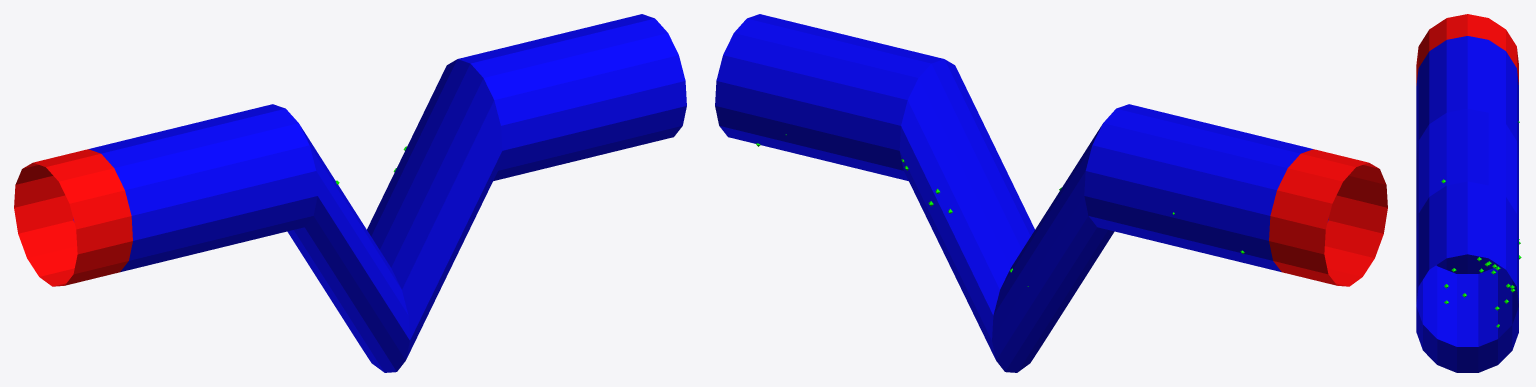
Rendered from try_0.obj.
3 renders of one model, left to right at view 1: azimuth 30°, elevation 25°; view 2: azimuth 150°, elevation 25°; view 3: azimuth 270°, elevation 25°, orthographic. The views are drawn at different scales.
Visible parts, largest first — view 1: material_b, material_r; view 2: material_b, material_r; view 3: material_b, material_r, material_g.
Part boxes in pixels (<box>): material_b: <box>73,14,686,372</box>; material_r: <box>14,149,132,286</box>; material_b: <box>715,14,1328,372</box>; material_r: <box>1269,149,1387,286</box>; material_b: <box>1416,36,1518,372</box>; material_r: <box>1416,14,1518,85</box>; material_g: <box>1441,121,1521,327</box>.
Size of the model in its own units: 1100 by 486 by 204.
